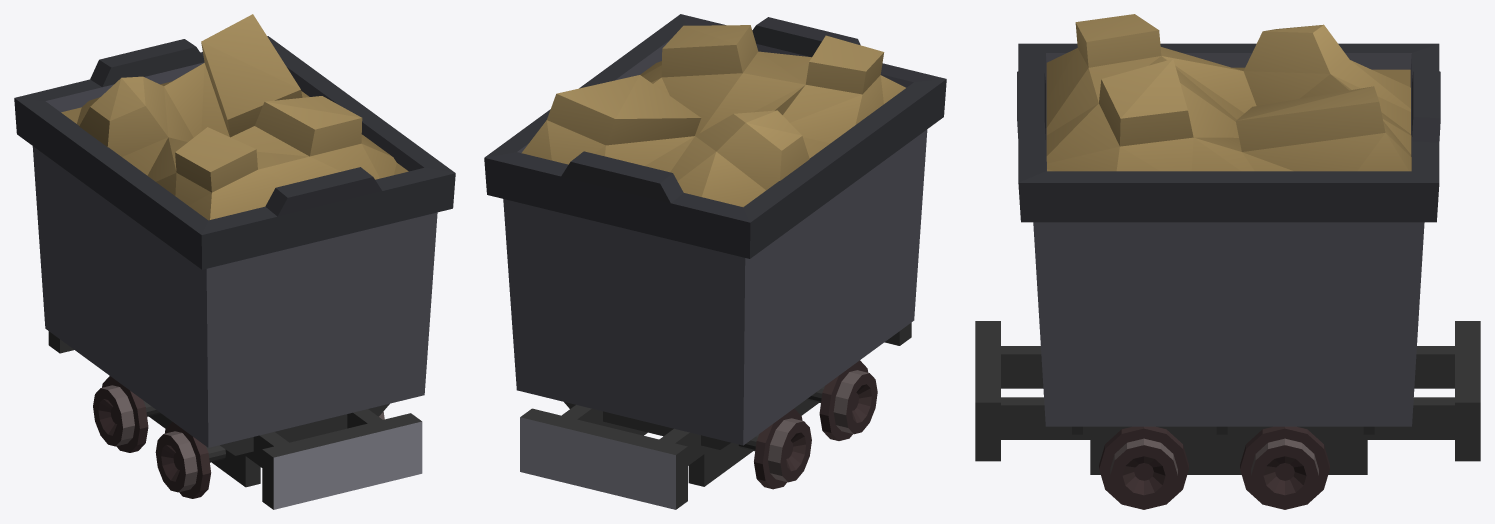
File: Mines Cart Gold.glb
3 views of the same model, side by side, from view 1: azimuth 30°, elevation 25°; view 2: azimuth 150°, elevation 25°; view 3: azimuth 270°, elevation 25° (orthographic). The views are drawn at different scales.
Parts seen in each view (by area): view 1: Mines Cart Gold; view 2: Mines Cart Gold; view 3: Mines Cart Gold.
Boxes of the visible parts, bbox=[...] form: Mines Cart Gold: bbox=[14, 14, 455, 509]; Mines Cart Gold: bbox=[484, 14, 946, 509]; Mines Cart Gold: bbox=[975, 14, 1480, 509].
Size of what is drawn, in the model's own units: 0.8355 by 1.14 by 1.28.
1 material, 1 textured.
